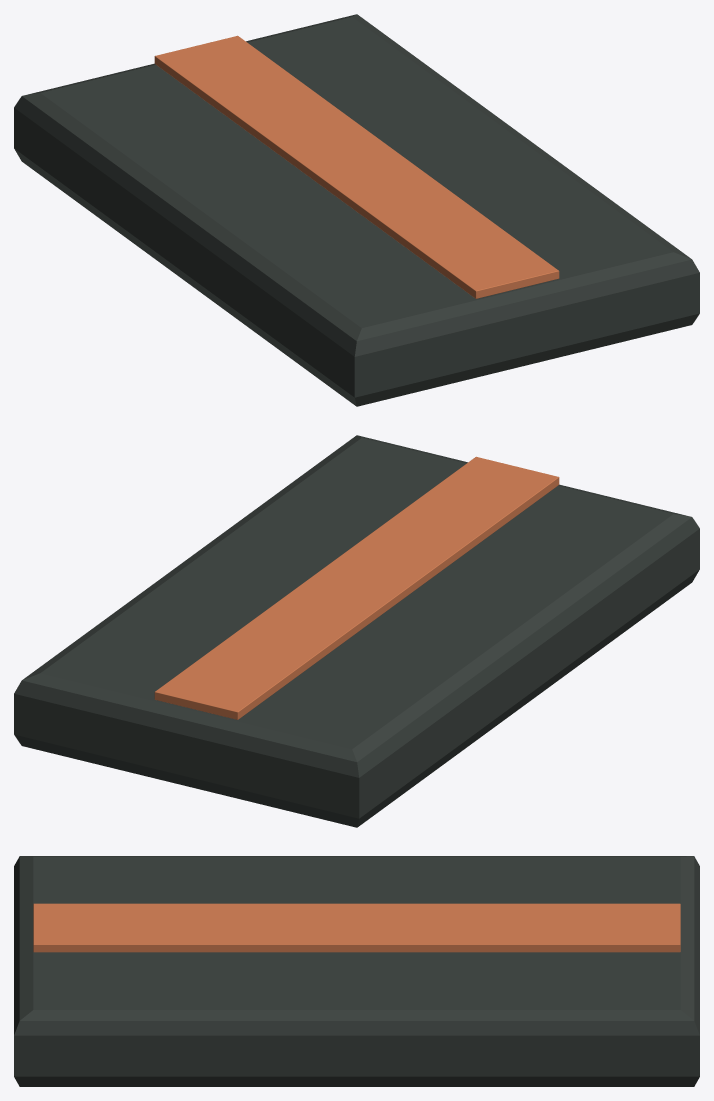
The model's file is off-grid-power-and-controls-cable-bridge-4ec70dd6__2996.glb.
3 renders of one model, top to bottom at view 1: azimuth 30°, elevation 25°; view 2: azimuth 150°, elevation 25°; view 3: azimuth 270°, elevation 25°, orthographic.
Visible parts, largest first — view 1: cable-bridge; view 2: cable-bridge; view 3: cable-bridge.
Part boxes in pixels (<box>): cable-bridge: <box>14,14,699,406</box>; cable-bridge: <box>14,435,699,827</box>; cable-bridge: <box>14,856,699,1086</box>.
Bounding box in the file's own units: 0.62 × 0.146 × 1.06.
